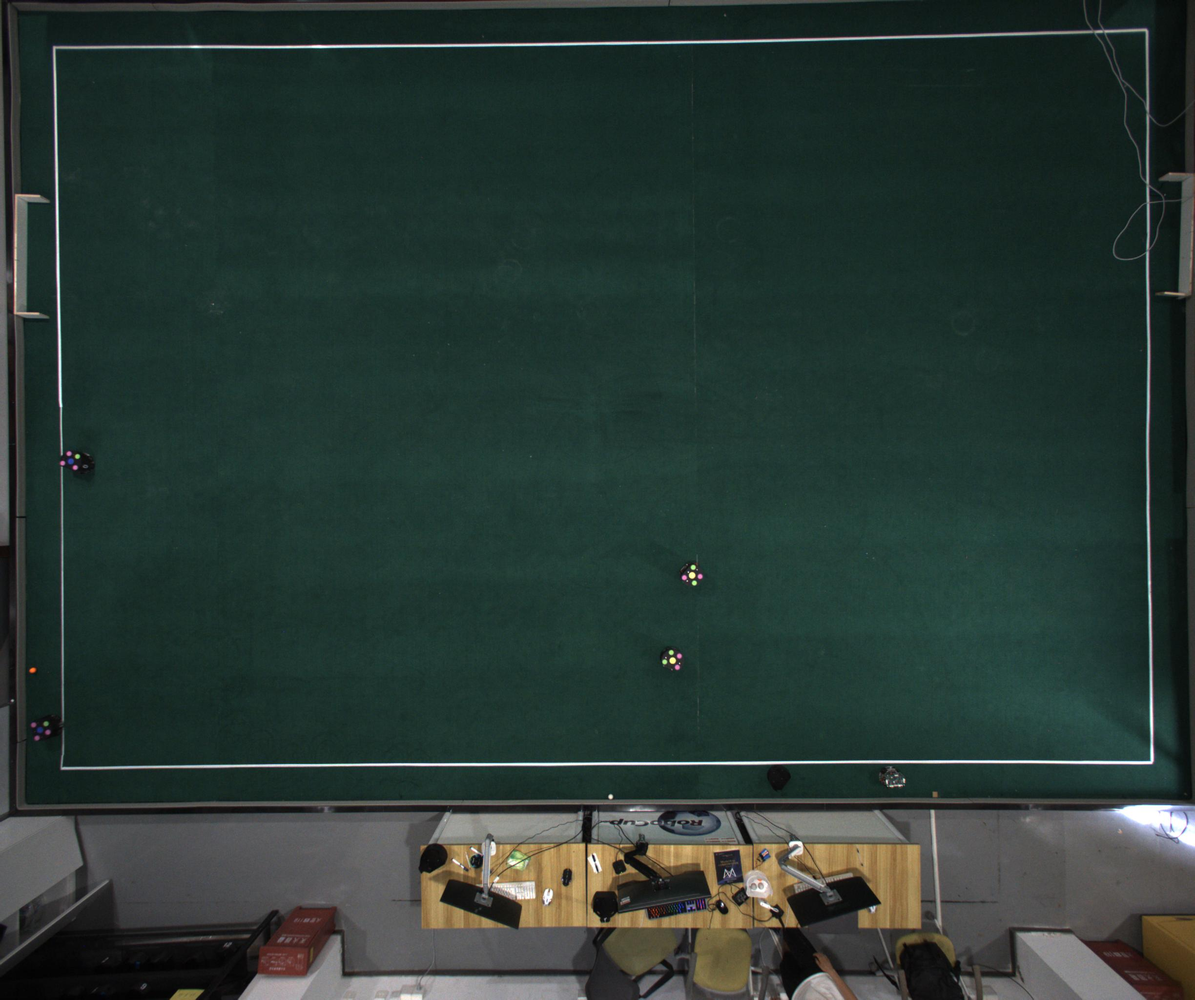ball: (28, 667, 37, 673)
blue_bot: (59, 450, 84, 472), (30, 719, 53, 742)
yellow_bot: (681, 563, 704, 587), (661, 649, 683, 671)
